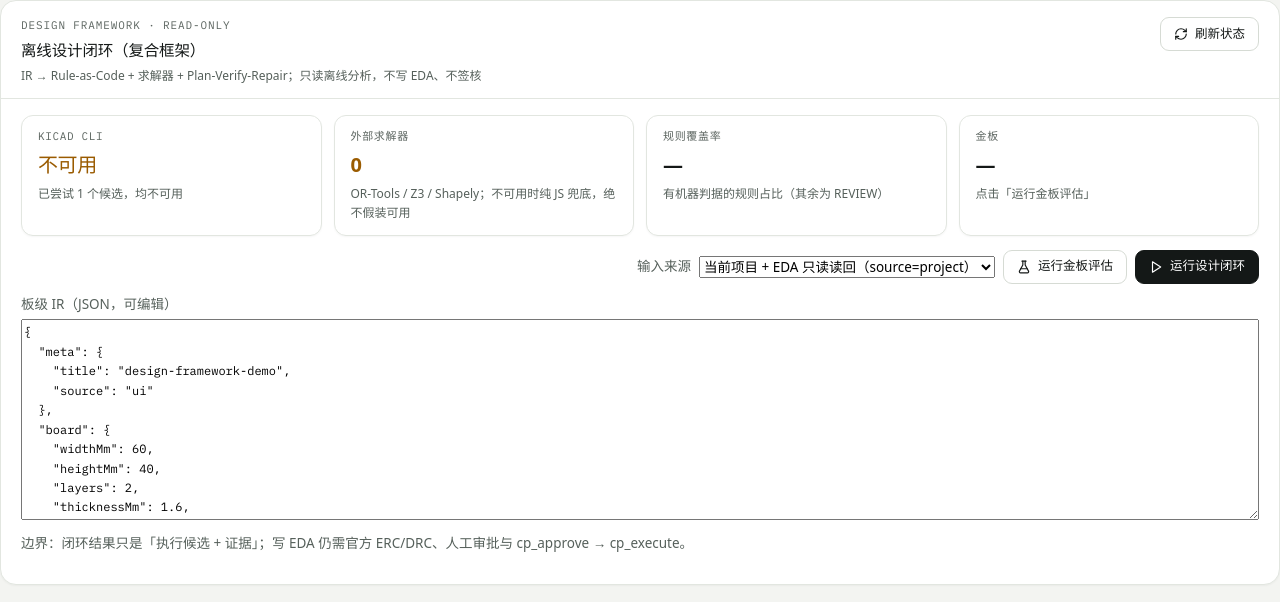
离线设计闭环面板 › 输入来源切到 source=project：调用 Runtime 只读读回模式（不解析 model 文本）
Select "当前项目 + EDA 只读读回（source=project）" in the dropdown named "板级 IR 输入来源" at coordinates (847, 267), box [699,256,995,278]
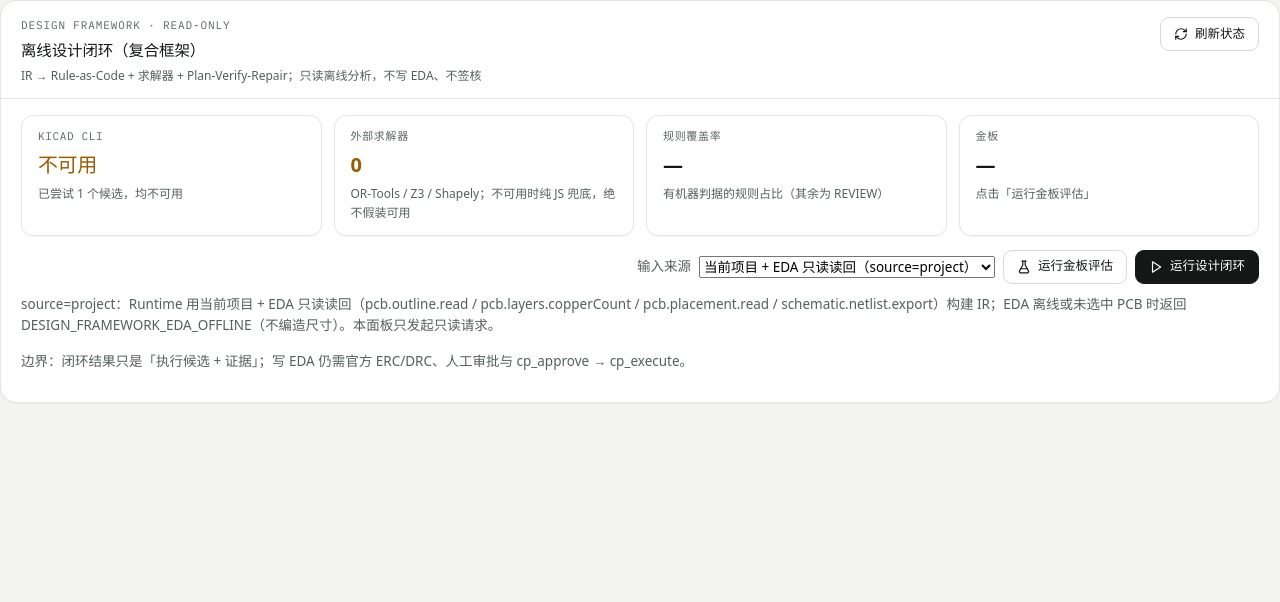
Click the button "运行设计闭环" at coordinates (1197, 267), box [1135,250,1259,284]
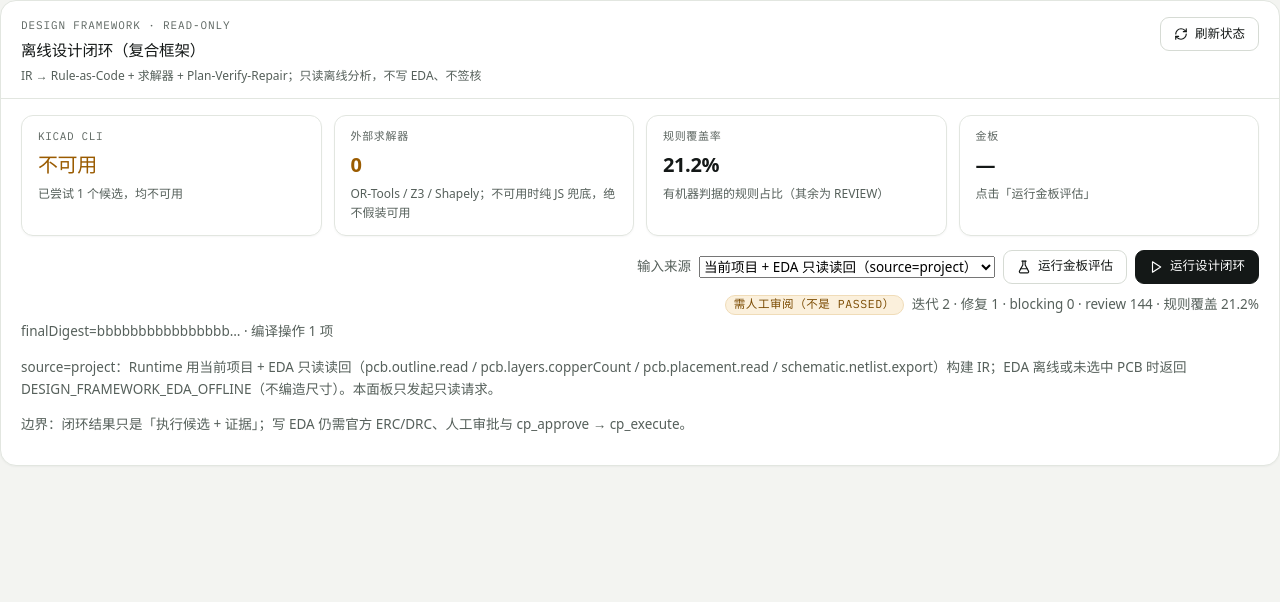
Check: the text "需人工审阅（不是 passed）" is shown, box [725,294,904,314]
